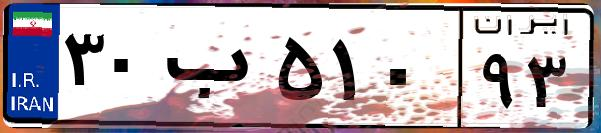0: (385, 28, 445, 110), (110, 28, 158, 98)
1: (330, 28, 385, 110)
3: (57, 26, 110, 100), (525, 38, 570, 115)
5: (270, 28, 330, 110)
9: (475, 38, 525, 113)
ب: (158, 20, 270, 120)
